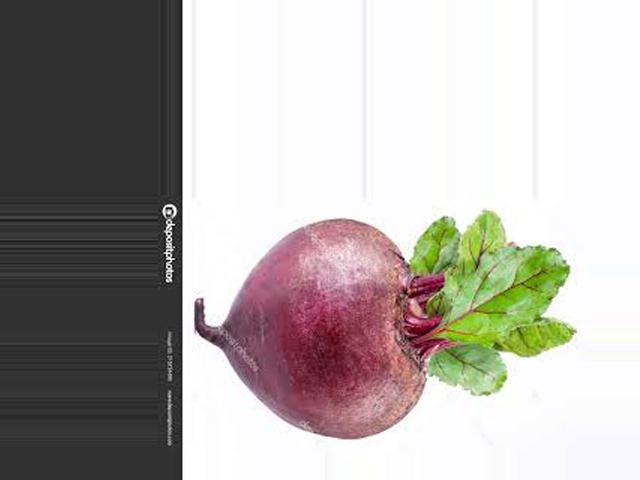beet: (196, 210, 574, 440)
